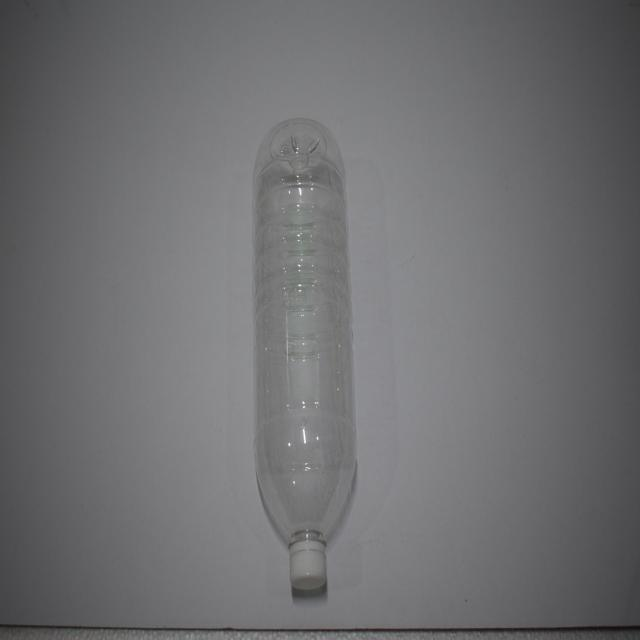bottle: (246, 122, 356, 605)
